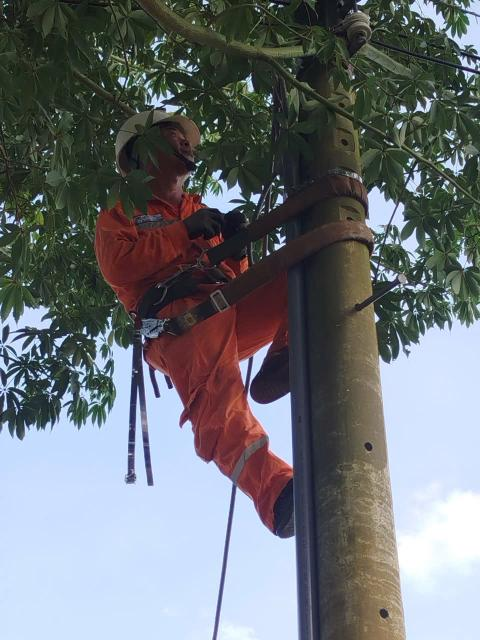gloves: (211, 200, 258, 244), (174, 203, 226, 242)
harness: (96, 255, 294, 340)
helmet: (100, 102, 201, 158)
shoes: (243, 326, 320, 406), (261, 457, 320, 538)
